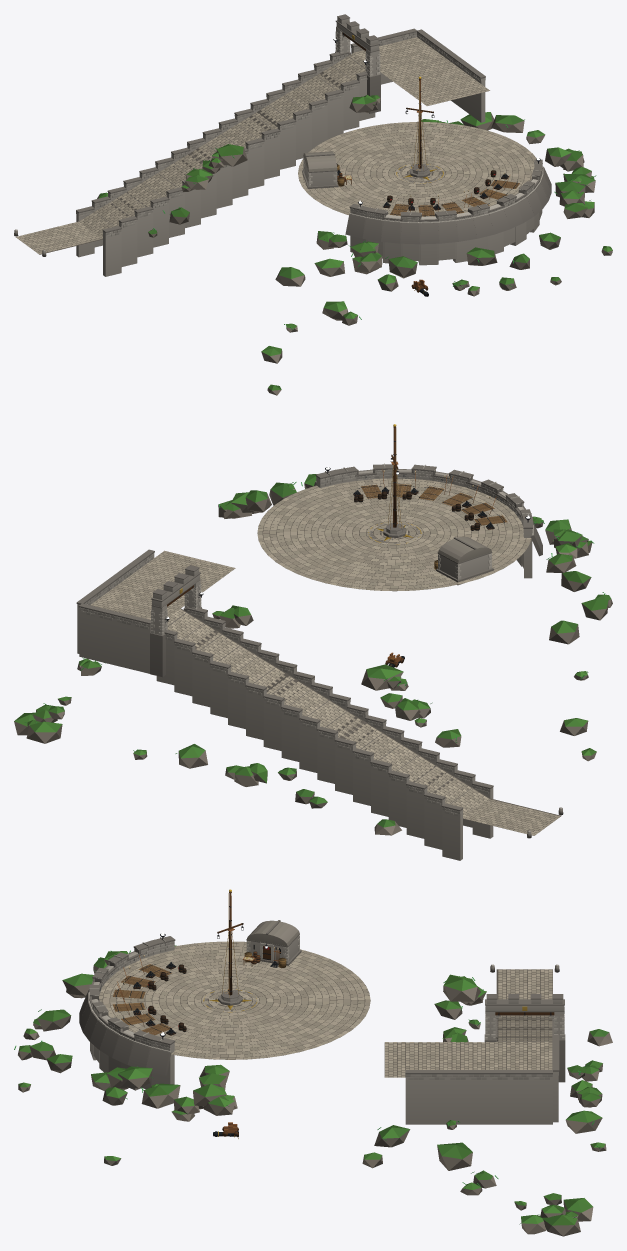
Rendered from battery.glb.
3 views of the same model, one above another, from view 1: azimuth 30°, elevation 25°; view 2: azimuth 150°, elevation 25°; view 3: azimuth 270°, elevation 25° (orthographic). The views are drawn at different scales.
Visible parts, largest first — view 1: battery_LOD0; view 2: battery_LOD0; view 3: battery_LOD0.
Part boxes in pixels (x1=…): battery_LOD0: x1=14, y1=14, x2=612, y2=395; battery_LOD0: x1=14, y1=424, x2=612, y2=860; battery_LOD0: x1=14, y1=889, x2=612, y2=1236.
Size of what is drawn, in the model's own units: 86.18 by 48.66 by 85.44.
